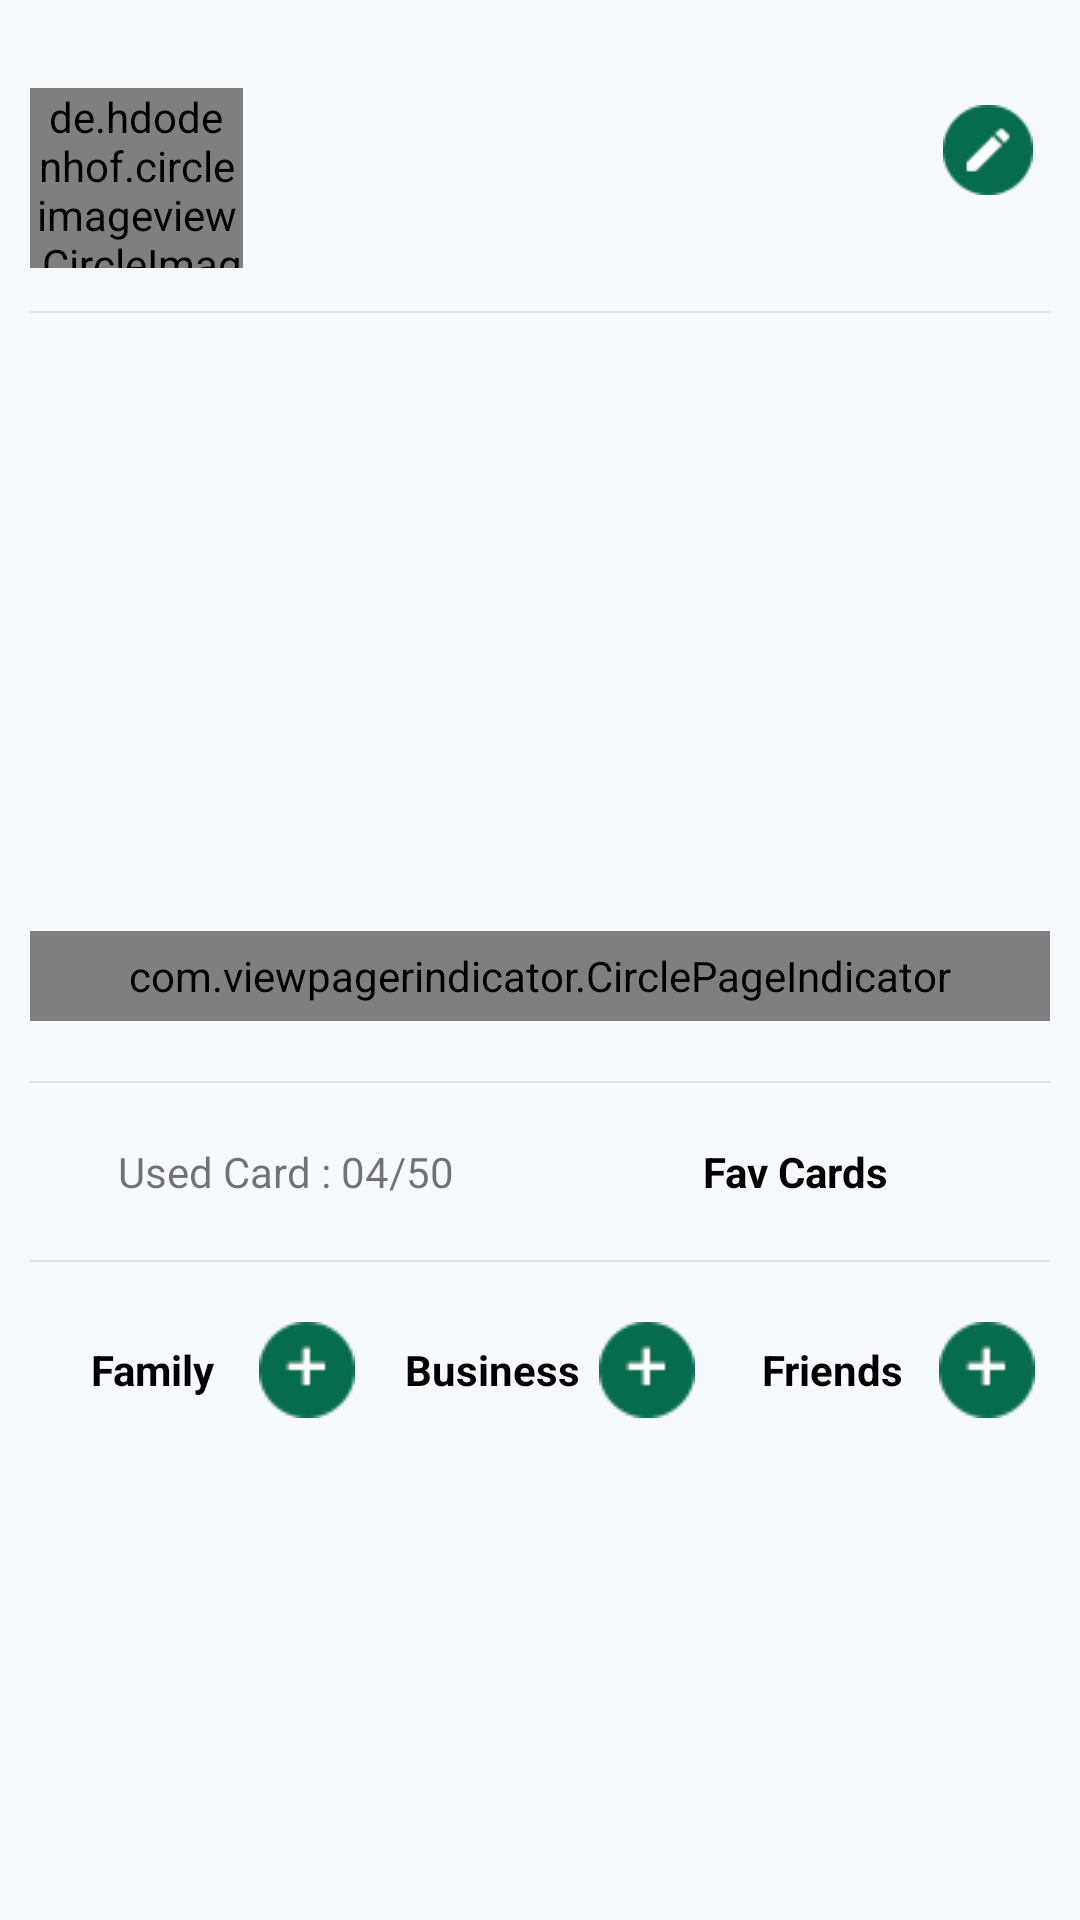

Point at icon controls on the screen. Image size 1080×1920, points as point (x, y).
edit profile: point (988, 150)
